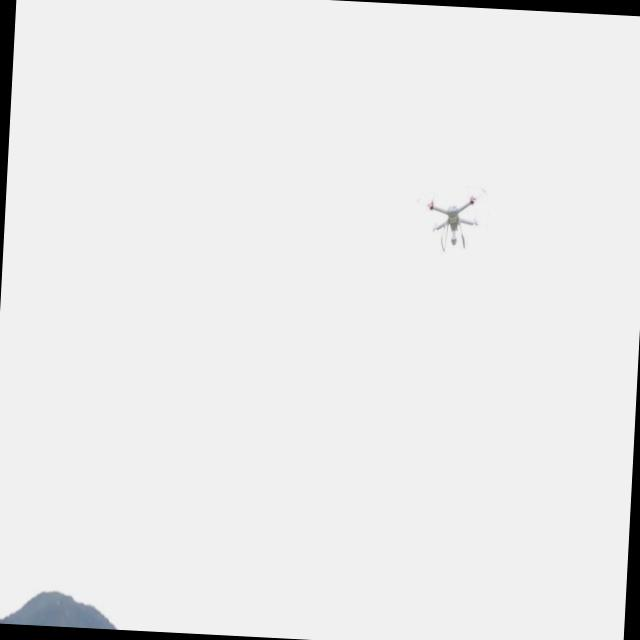drone: (414, 178, 490, 258)
